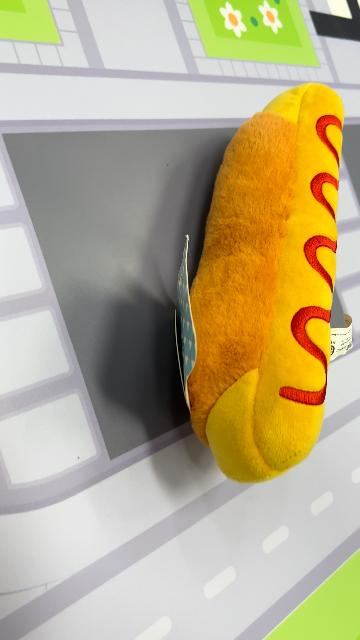hotdog: (179, 81, 346, 485)
